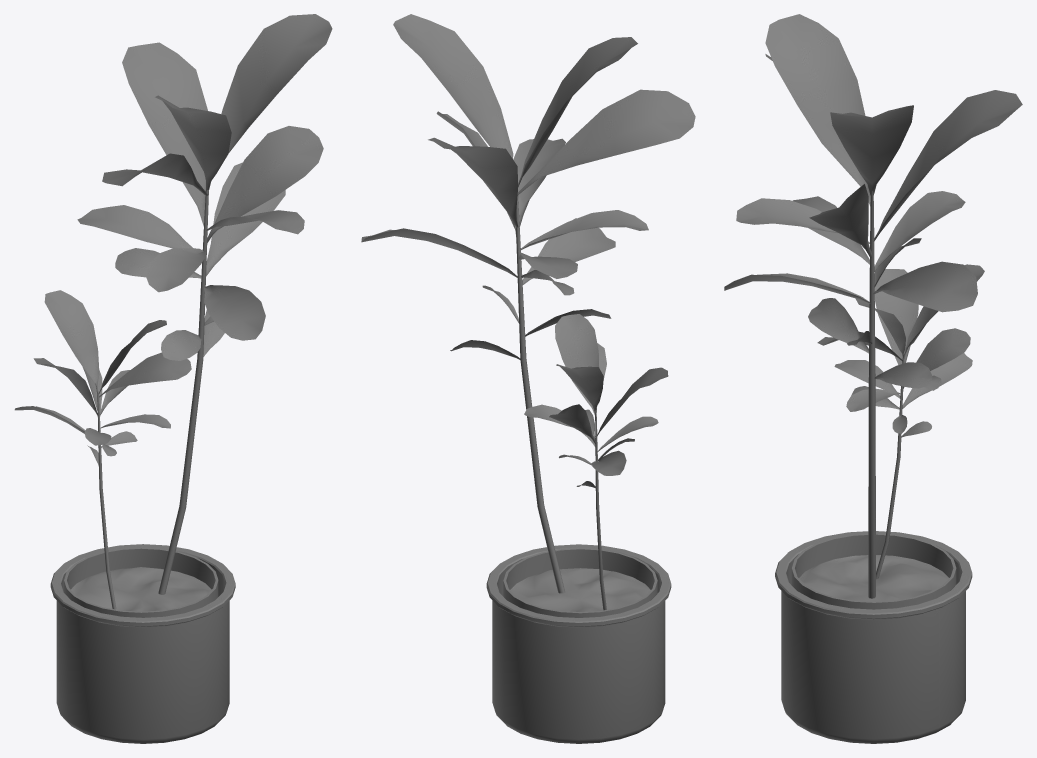
File: Houseplant.fbx
3 renders of one model, left to right at view 1: azimuth 30°, elevation 25°; view 2: azimuth 150°, elevation 25°; view 3: azimuth 270°, elevation 25°, orthographic. The views are drawn at different scales.
Visible parts, largest first — view 1: Houseplant_5ft_001_1; view 2: Houseplant_5ft_001_1; view 3: Houseplant_5ft_001_1.
Part boxes in pixels (bbox=[...]): Houseplant_5ft_001_1: bbox=[14, 14, 332, 743]; Houseplant_5ft_001_1: bbox=[361, 14, 695, 743]; Houseplant_5ft_001_1: bbox=[724, 14, 1022, 743].
Size of the model in its own units: 72.25 by 158 by 61.99.
1 material, 1 textured.
